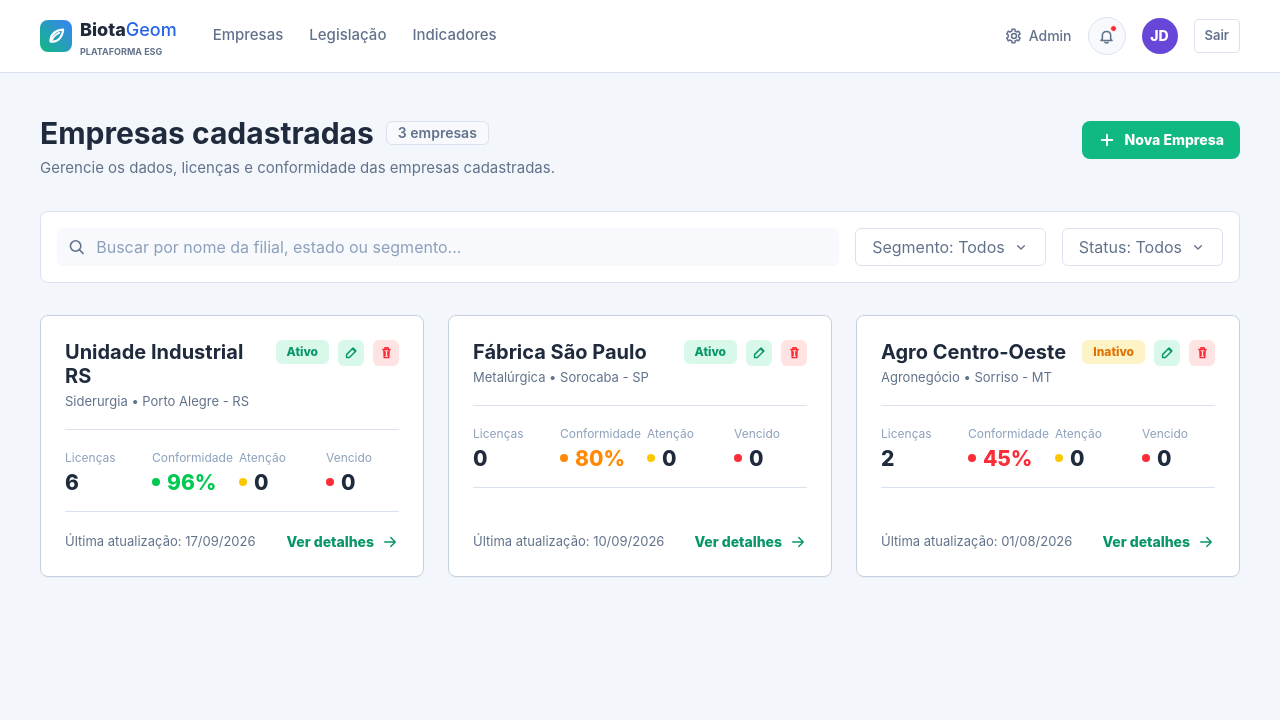
AdminCompaniesPage › deletes a company only after confirmation and refreshes the listing
The width and height of the screenshot is (1280, 720).
Click the button named "Excluir Unidade Industrial RS" at {"x": 386, "y": 353}, box x1=373 y1=340 x2=399 y2=366
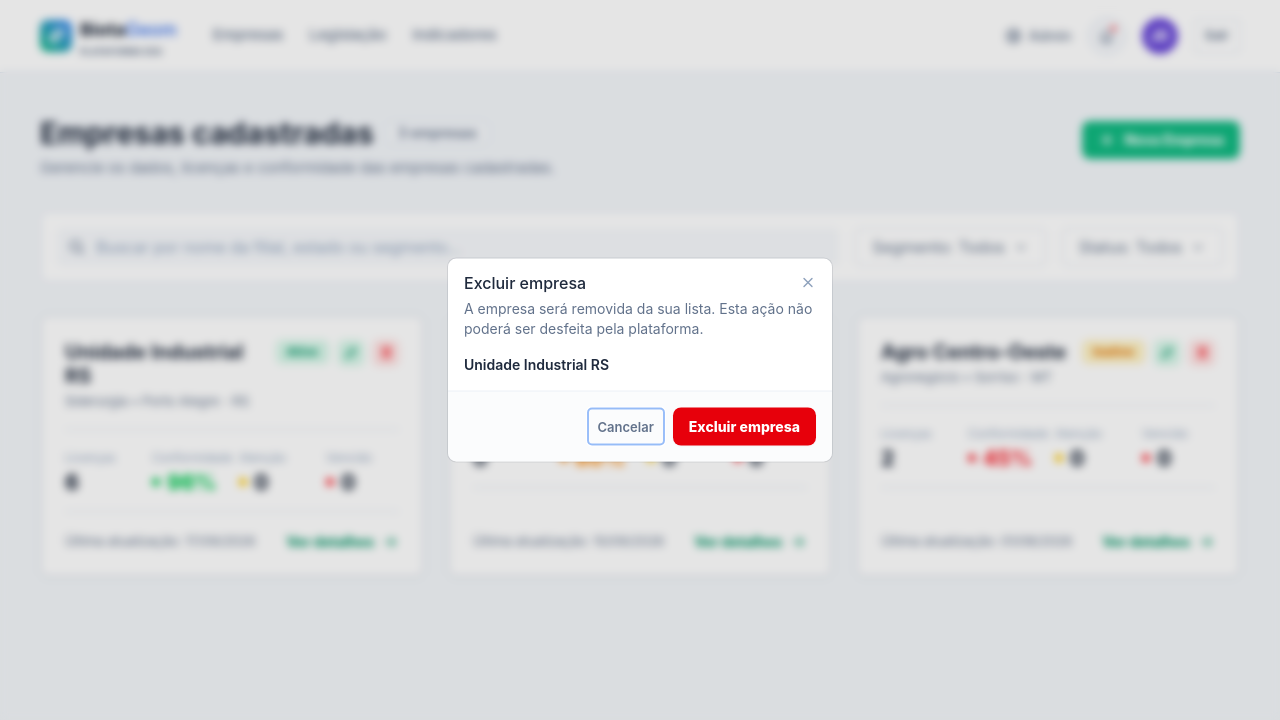
Check: the dialog "Excluir empresa" is shown, box x1=448 y1=258 x2=832 y2=462
Click the button "Excluir empresa" at {"x": 744, "y": 426}, box x1=673 y1=408 x2=816 y2=446
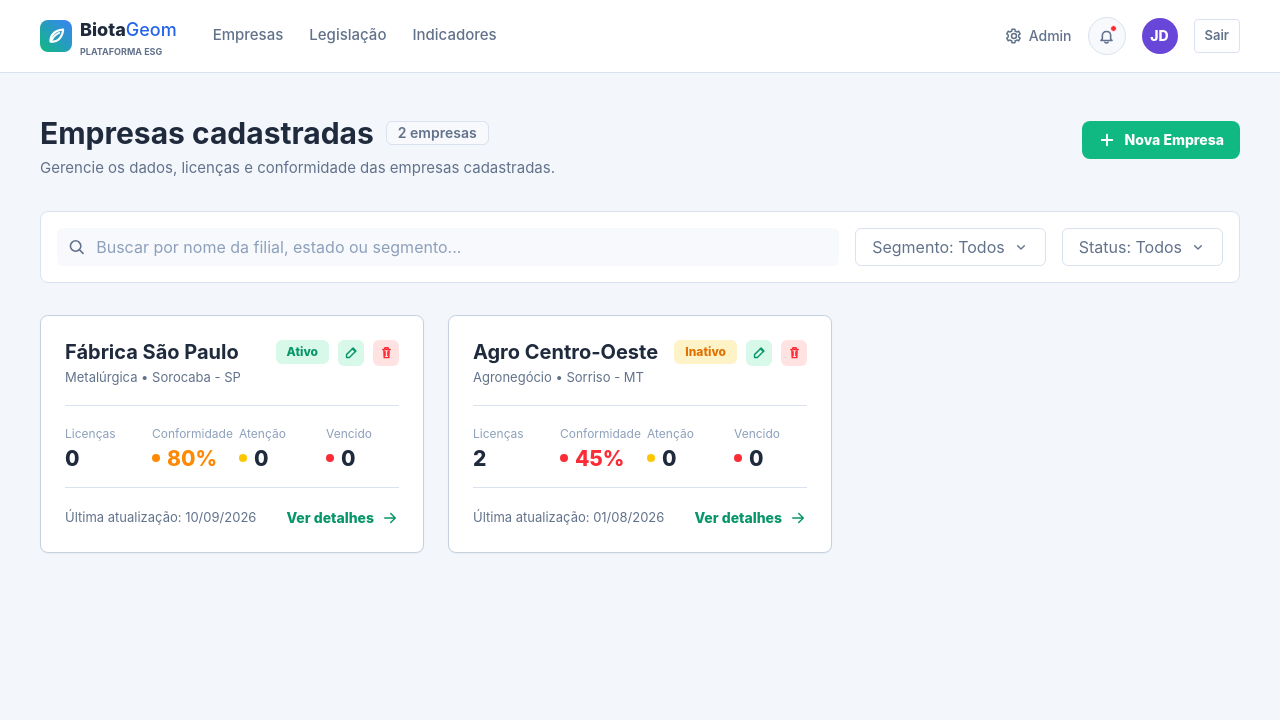
Check: the heading "Unidade Industrial RS" is gone
